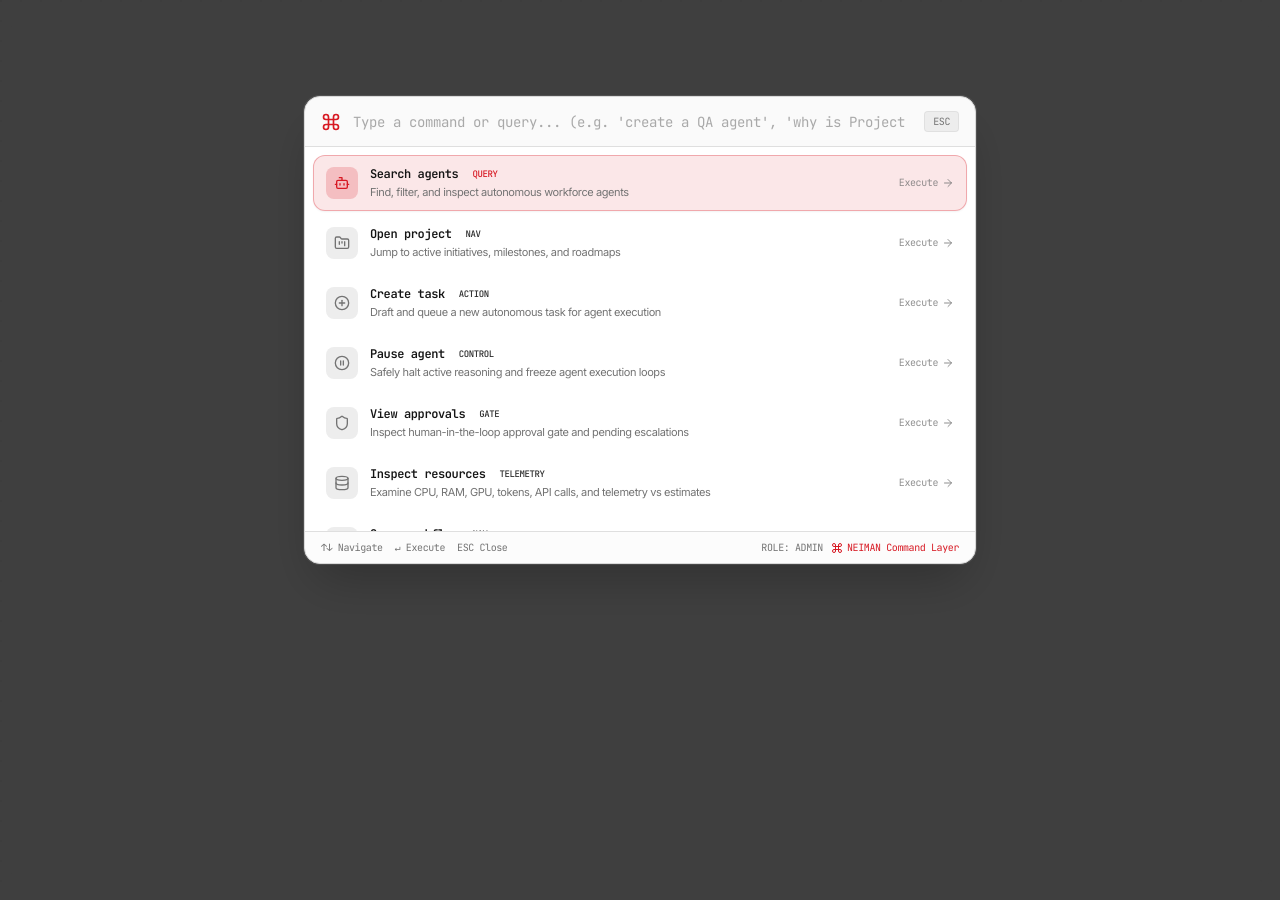
CommandPalette › filters command items based on user search query
The width and height of the screenshot is (1280, 900).
Replace the text in the field with placeholder "Type a command or query" with "Simulation" at (633, 122), box [353, 112, 912, 132]
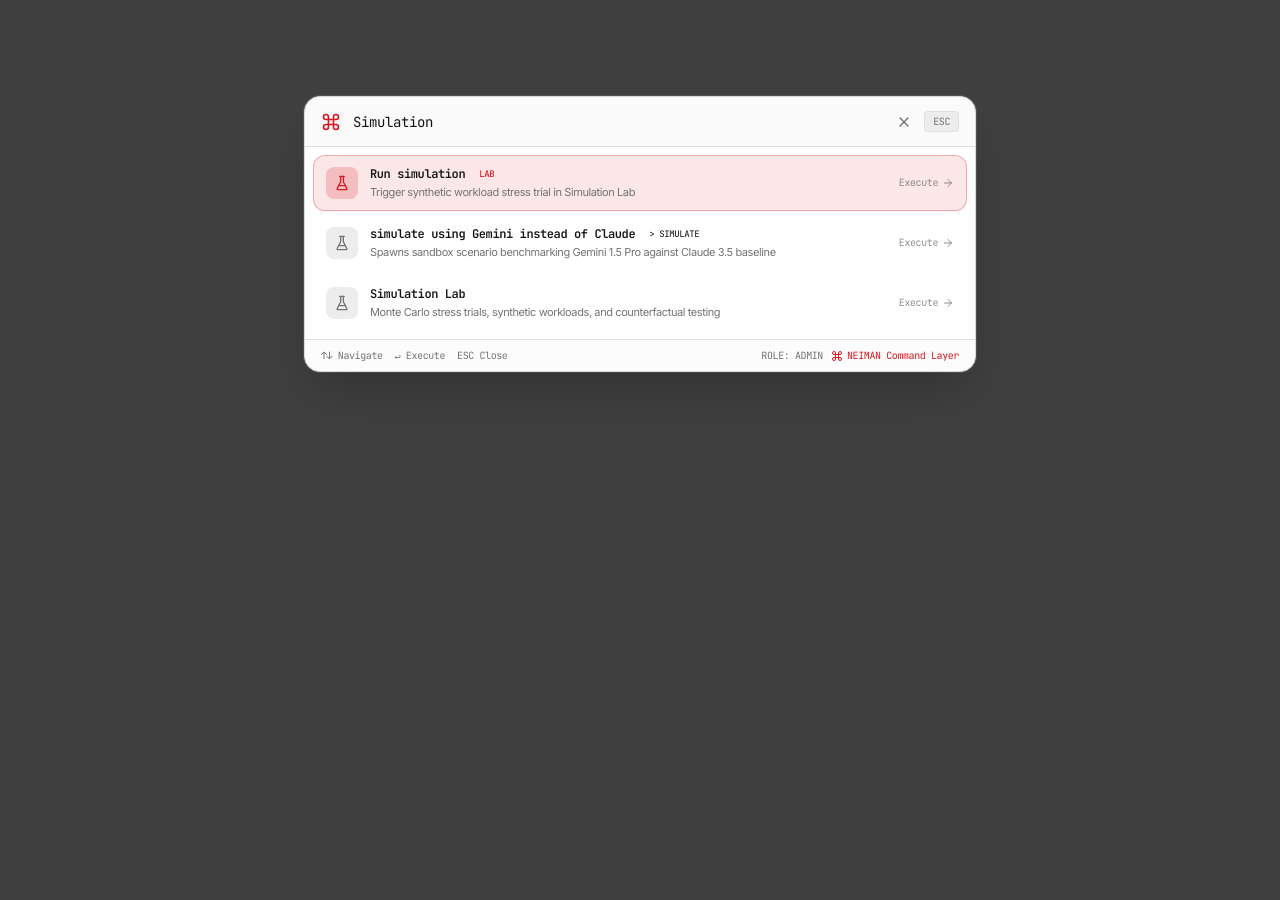
Now the text "Simulation Lab" is shown, box [370, 286, 465, 302]
